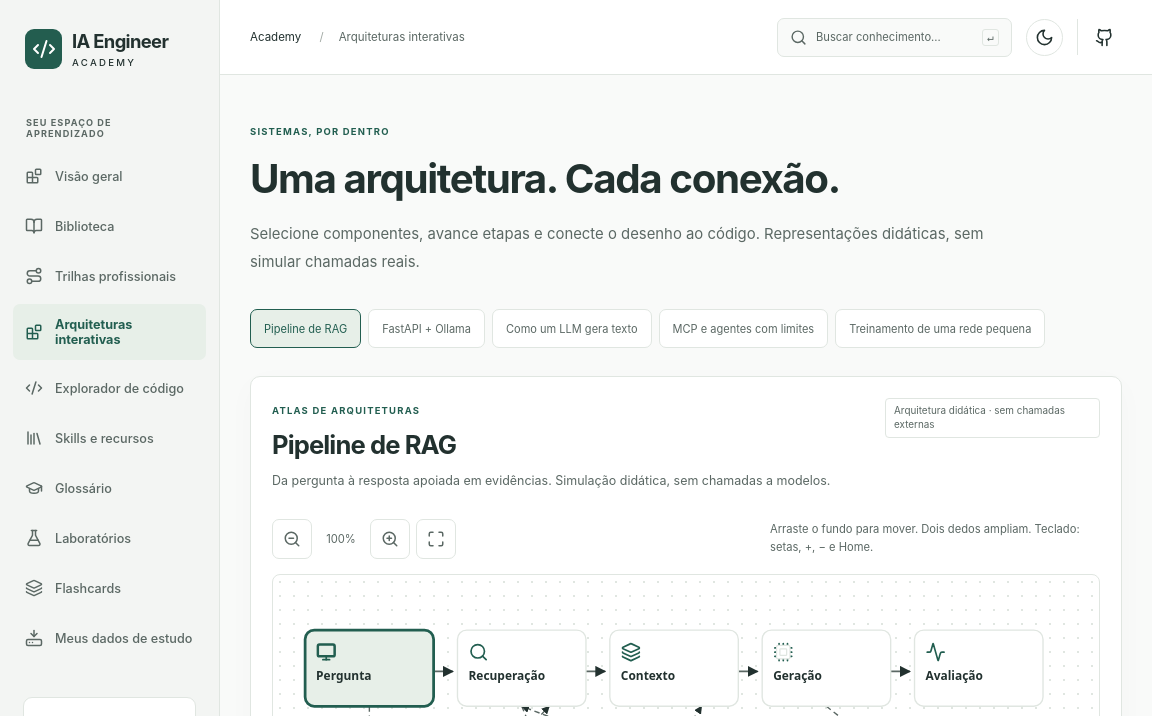
Test: estudo guiado e revisão editorial › Atlas permite ampliar e restaurar o diagrama
The width and height of the screenshot is (1152, 716).
Step 1. Click the button named "Ampliar diagrama" → click(390, 539), box left=370, top=519, right=410, bottom=559
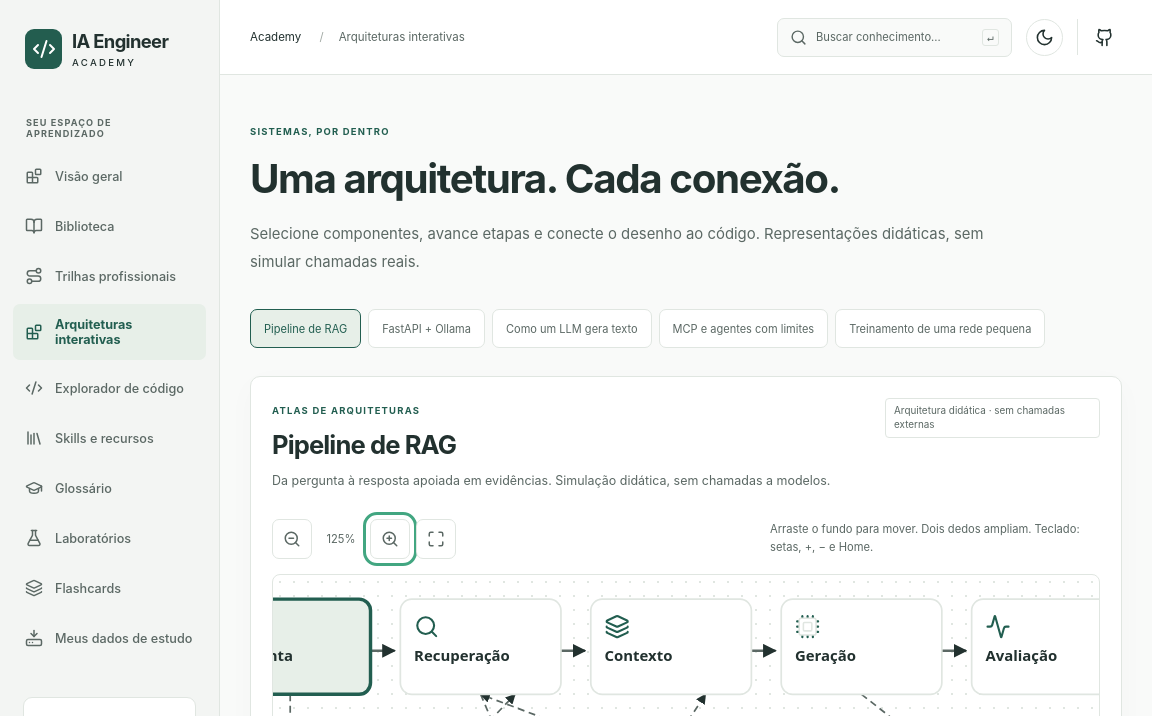
Now the text named "Escala do diagrama" reads "125%", box left=326, top=532, right=356, bottom=546
Step 2. Click the button named "Restaurar enquadramento" → click(436, 539), box left=416, top=519, right=456, bottom=559
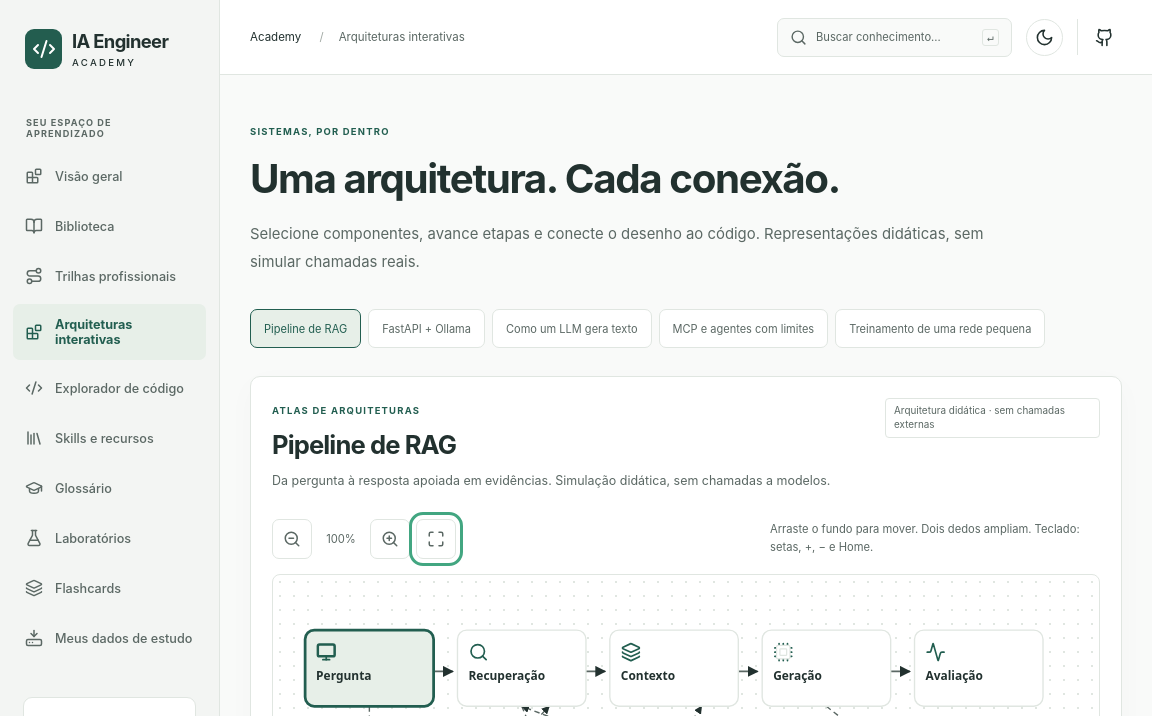
Now the text named "Escala do diagrama" reads "100%", box left=326, top=532, right=356, bottom=546
